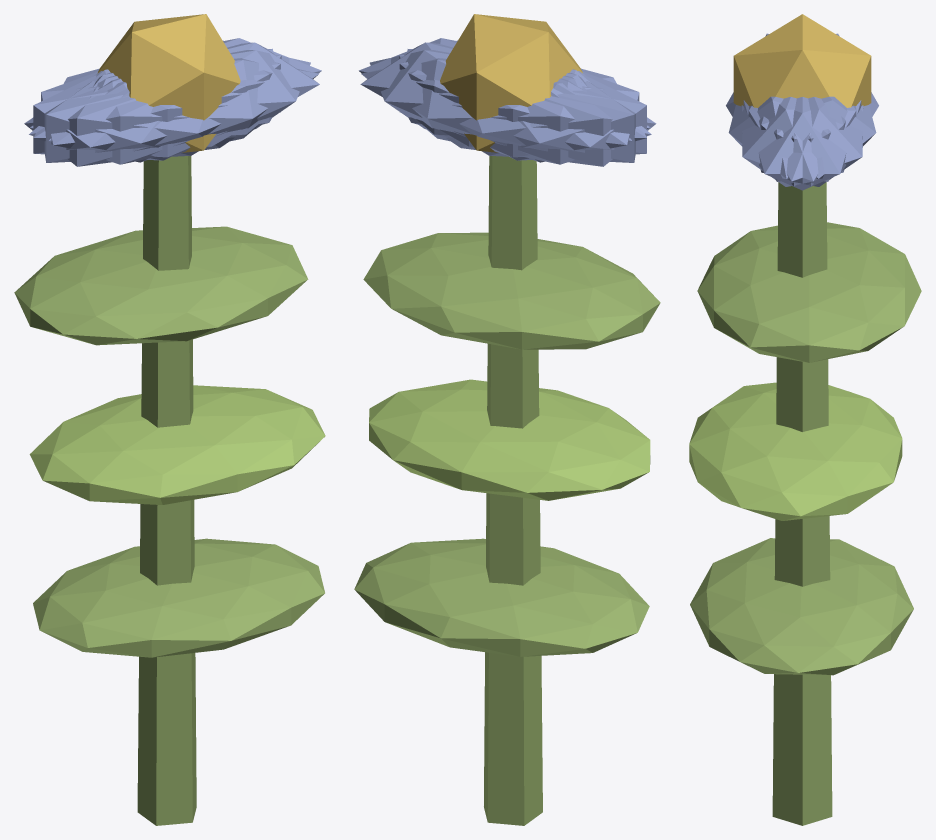
File: eucalyptus-deglupta.glb
The picture shows the model from 3 angles, left to right: view 1: azimuth 30°, elevation 25°; view 2: azimuth 150°, elevation 25°; view 3: azimuth 270°, elevation 25°; orthographic projection.
Parts seen in each view (by area): view 1: leaf1, leaf2, leaf0, stem, center, petal1, petal6, petal2, petal5, petal7, petal0, petal4 (+2 smaller); view 2: leaf2, stem, leaf0, leaf1, center, petal8, petal3, petal7, petal4, petal2, petal0, petal5 (+2 smaller); view 3: leaf2, leaf0, leaf1, stem, center, petal0, petal5, petal4, petal1, petal8.
Boxes of the visible parts, x1,y1,x2,y2 form: leaf1: [29, 385, 325, 504]; leaf2: [14, 226, 308, 345]; leaf0: [33, 538, 324, 657]; stem: [137, 156, 196, 825]; center: [97, 14, 240, 152]; petal1: [29, 58, 318, 164]; petal6: [24, 71, 234, 166]; petal2: [44, 48, 272, 162]; petal5: [48, 50, 310, 157]; petal7: [33, 55, 281, 160]; petal0: [97, 42, 319, 146]; petal4: [30, 38, 321, 138]; leaf2: [363, 232, 660, 349]; stem: [484, 156, 542, 825]; leaf0: [354, 538, 649, 656]; leaf1: [369, 379, 650, 500]; center: [440, 14, 582, 152]; petal8: [361, 58, 651, 164]; petal3: [446, 71, 656, 166]; petal7: [407, 49, 635, 162]; petal4: [369, 50, 631, 157]; petal2: [399, 55, 646, 160]; petal0: [360, 42, 583, 147]; petal5: [359, 38, 650, 138]; leaf2: [697, 222, 921, 362]; leaf0: [690, 538, 913, 675]; leaf1: [689, 382, 902, 520]; stem: [772, 182, 832, 825]; center: [733, 14, 871, 107]; petal0: [743, 97, 861, 190]; petal5: [741, 97, 856, 186]; petal4: [748, 97, 863, 186]; petal1: [728, 96, 845, 178]; petal8: [759, 96, 876, 178].
Size of the model in its own units: 0.1452 by 0.3839 by 0.1036.
